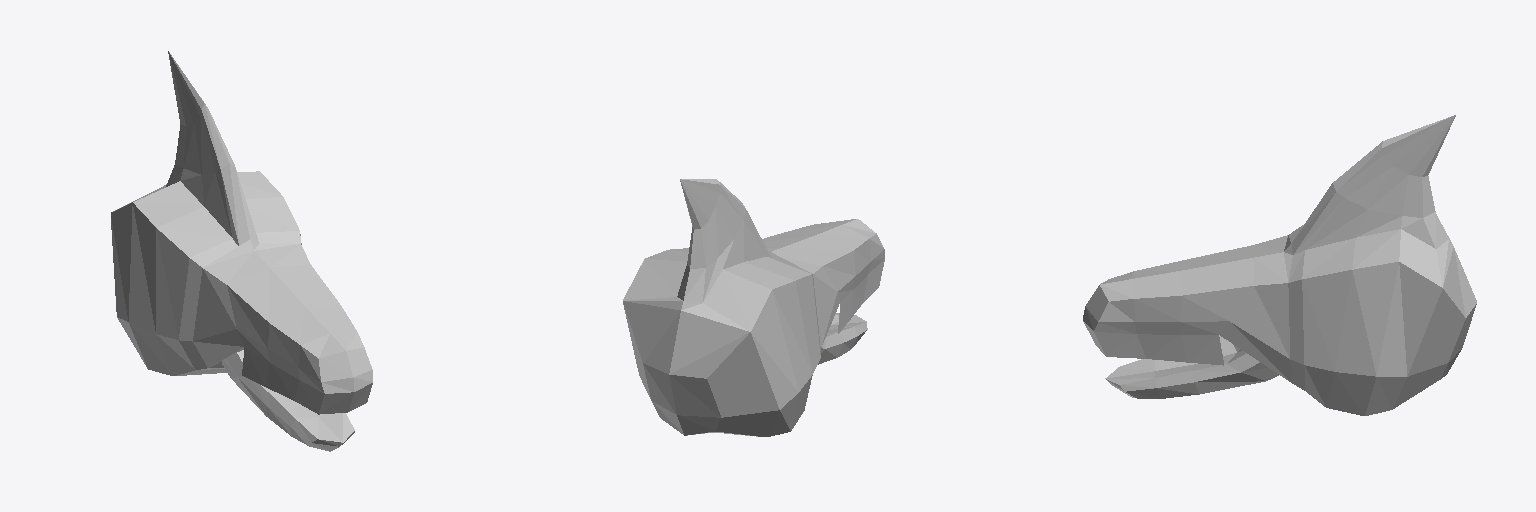
The model's file is ventoraptorskull.obj.
3 renders of one model, left to right at view 1: azimuth 30°, elevation 25°; view 2: azimuth 150°, elevation 25°; view 3: azimuth 270°, elevation 25°, orthographic.
Visible parts, largest first — view 1: Base; view 2: Base; view 3: Base.
Part boxes in pixels (x1,y1,x2,y2): Base: (111, 51, 372, 451); Base: (623, 179, 884, 436); Base: (1083, 115, 1476, 415).
Size of the model in its own units: 0.3789 by 0.6462 by 0.8179.